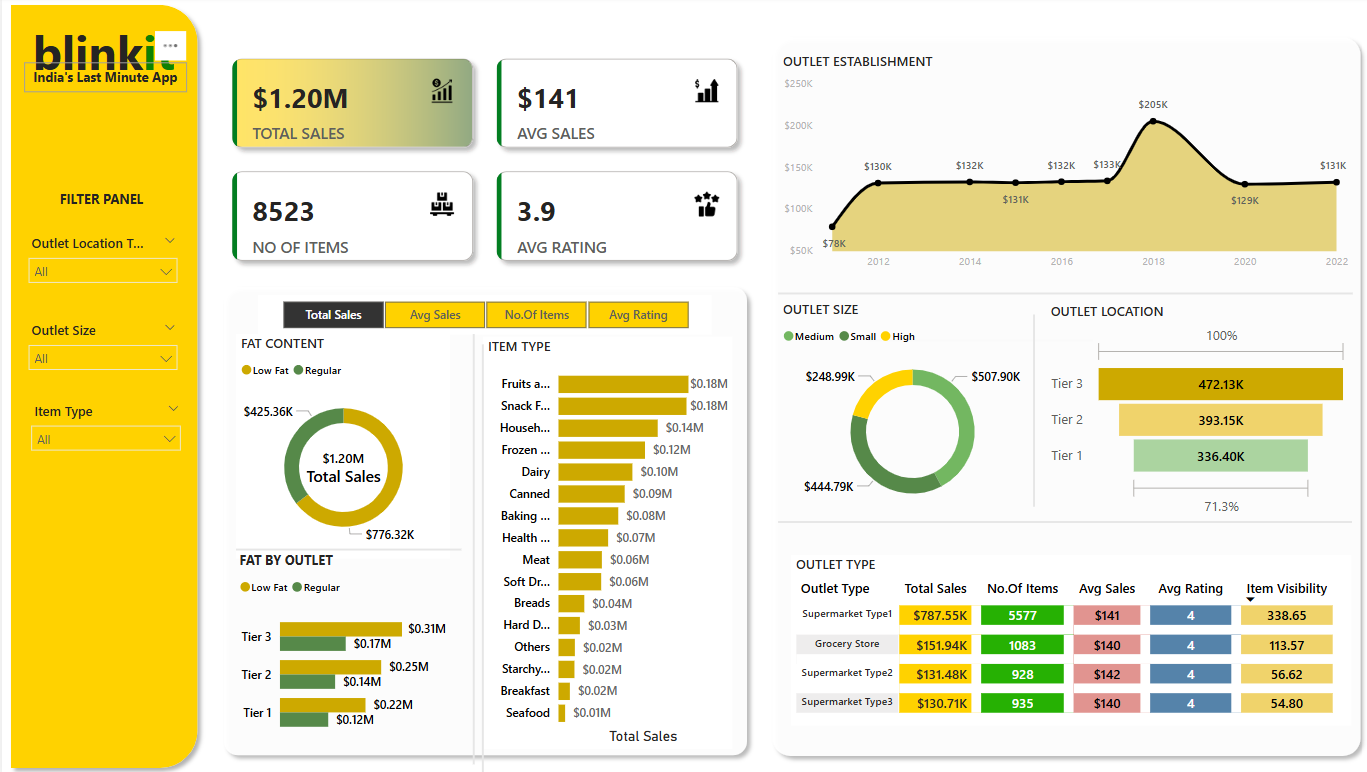

The page's visual inventory and layout, read from the dashboard file:
{"tool":"powerbi","page":{"name":"Page 1","canvas":[1400,800],"ordinal":0},"visuals":[{"type":"shape","box":[0,0,209.3,799.9],"z":0},{"type":"textbox","box":[16.6,18,176.1,80.4],"z":1000},{"type":"textbox","box":[22.2,67.9,166.4,30.5],"z":2000},{"type":"cardVisual","fields":{"Data":["BlinkIT Grocery Data.Total Sales","BlinkIT Grocery Data.Avg Sales","BlinkIT Grocery Data.No.Of Items","BlinkIT Grocery Data.Avg Rating"]},"box":[218.3,46.6,553.8,242.3],"z":3000},{"type":"shape","box":[218.3,288.9,553.8,497.9],"z":4000},{"type":"donutChart","title":"FAT CONTENT","fields":{"Y":["BlinkIT Grocery Data.Total Sales"],"Category":["BlinkIT Grocery Data.Item Fat Content"]},"box":[239.8,346.2,219.5,229.6],"z":5000},{"type":"slicer","fields":{"Values":["Metrix.Metrix"]},"box":[261.7,305.6,464.4,40.5],"z":6000},{"type":"cardVisual","fields":{"Data":["BlinkIT Grocery Data.Total Sales"]},"box":[275.2,442.4,148.6,81.1],"z":7000},{"type":"clusteredBarChart","title":"FAT BY OUTLET","fields":{"Y":["BlinkIT Grocery Data.Total Sales"],"Category":["BlinkIT Grocery Data.Outlet Location Type"],"Series":["BlinkIT Grocery Data.Item Fat Content"]},"box":[238.3,568.4,221,202.3],"z":8000},{"type":"shape","box":[887.2,346.2,230.8,12.8],"z":9000},{"type":"shape","box":[471.1,346.2,23.6,440.7],"z":10000},{"type":"barChart","title":"ITEM TYPE","fields":{"Y":["BlinkIT Grocery Data.Total Sales"],"Category":["BlinkIT Grocery Data.Item Type"]},"box":[492.6,348.8,255.6,422],"z":11000},{"type":"shape","box":[780.1,33.3,620.3,753.5],"z":12000},{"type":"lineChart","title":"OUTLET ESTABLISHMENT","fields":{"Y":["BlinkIT Grocery Data.Total Sales"],"Category":["BlinkIT Grocery Data.Outlet Establishment Year"]},"box":[794.9,57.7,588.5,230.8],"z":13000},{"type":"shape","box":[239.7,560.3,230.8,12.8],"z":14000},{"type":"shape","box":[794.9,298.7,588.5,12.8],"z":15000},{"type":"donutChart","title":"OUTLET SIZE","fields":{"Y":["BlinkIT Grocery Data.Total Sales"],"Series":["BlinkIT Grocery Data.Outlet Size"],"Category":["BlinkIT Grocery Data.Outlet Size"]},"box":[794.9,311.5,275,225],"z":16000},{"type":"shape","box":[481.1,356.2,23.6,440.7],"z":17000},{"type":"shape","box":[1045.3,325.8,23.6,196.9],"z":18000},{"type":"funnel","title":"OUTLET LOCATION","fields":{"Category":["BlinkIT Grocery Data.Outlet Location Type"],"Y":["Sum(BlinkIT Grocery Data.Sales)"]},"box":[1068.9,312.4,314.1,224.6],"z":19000},{"type":"shape","box":[794.4,532.3,587.8,12.5],"z":20000},{"type":"pivotTable","title":"OUTLET TYPE","fields":{"Rows":["BlinkIT Grocery Data.Outlet Type"],"Values":["BlinkIT Grocery Data.Total Sales","BlinkIT Grocery Data.No.Of Items","BlinkIT Grocery Data.Avg Sales","BlinkIT Grocery Data.Avg Rating","Sum(BlinkIT Grocery Data.Item Visibility)"]},"box":[808.2,572.5,573.9,174.7],"z":21000},{"type":"slicer","fields":{"Values":["BlinkIT Grocery Data.Outlet Location Type"]},"box":[16.9,238.1,172.2,72.6],"z":22000},{"type":"slicer","fields":{"Values":["BlinkIT Grocery Data.Outlet Size"]},"box":[16.9,327.6,172.2,72.6],"z":23000},{"type":"slicer","fields":{"Values":["BlinkIT Grocery Data.Item Type"]},"box":[19.4,410.3,173.3,72.1],"z":24000},{"type":"textbox","box":[42.6,193,118.5,35.9],"z":25000}]}

Visuals, with their boxes in screenshot pixels (x1, y1, x2, y2), scaled from the page's 1400x800 canvas onto the 1367x772 screenshot:
shape: [0,0,204,771]
textbox: [16,17,188,95]
textbox: [22,66,184,95]
cardVisual - BlinkIT Grocery Data.Total Sales x BlinkIT Grocery Data.Avg Sales: [213,45,754,279]
shape: [213,279,754,759]
"FAT CONTENT" donutChart: [234,334,448,556]
slicer - Metrix.Metrix: [256,295,709,334]
cardVisual - BlinkIT Grocery Data.Total Sales: [269,427,414,505]
"FAT BY OUTLET" clusteredBarChart: [233,549,448,744]
shape: [866,334,1092,346]
shape: [460,334,483,759]
"ITEM TYPE" barChart: [481,337,731,744]
shape: [762,32,1366,759]
"OUTLET ESTABLISHMENT" lineChart: [776,56,1351,278]
shape: [234,541,459,553]
shape: [776,288,1351,301]
"OUTLET SIZE" donutChart: [776,301,1045,518]
shape: [470,344,493,769]
shape: [1021,314,1044,504]
"OUTLET LOCATION" funnel: [1044,301,1350,518]
shape: [776,514,1350,526]
"OUTLET TYPE" pivotTable: [789,552,1350,721]
slicer - BlinkIT Grocery Data.Outlet Location Type: [17,230,185,300]
slicer - BlinkIT Grocery Data.Outlet Size: [17,316,185,386]
slicer - BlinkIT Grocery Data.Item Type: [19,396,188,466]
textbox: [42,186,157,221]
